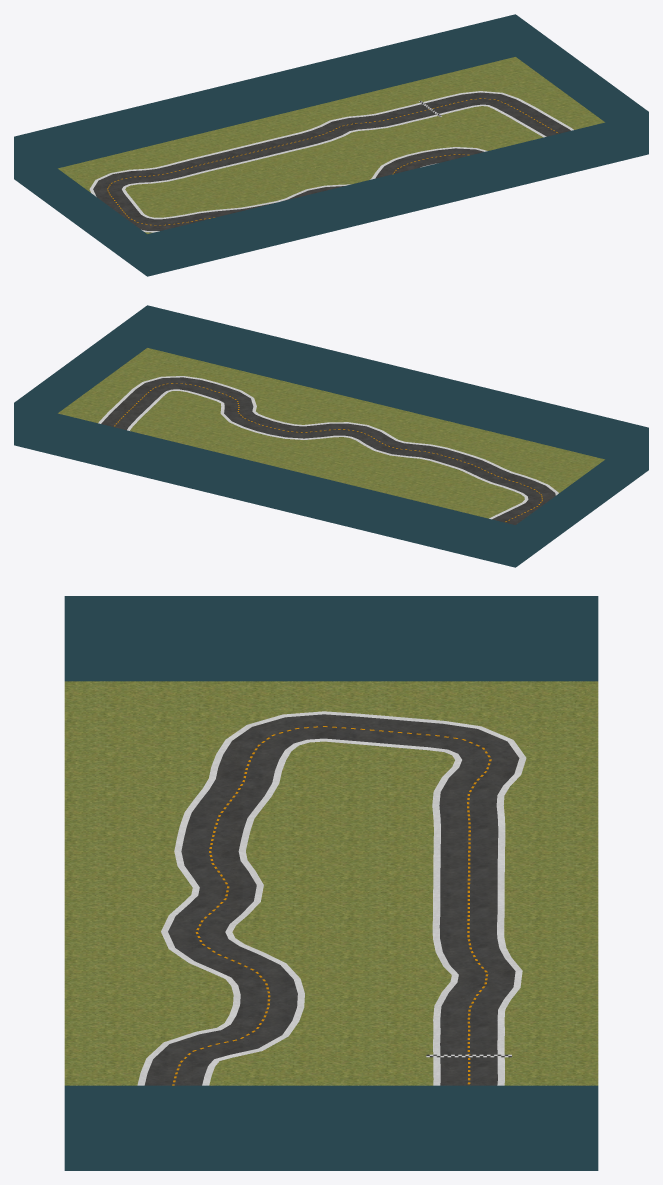
The model's file is 2024_reinvent_champ_ccw.dae.
The picture shows the model from 3 angles, top to bottom: view 1: azimuth 30°, elevation 25°; view 2: azimuth 150°, elevation 25°; view 3: azimuth 270°, elevation 25°; orthographic projection. The views are drawn at different scales.
Parts seen in each view (by area): view 1: wall, field, road, ol, il, cl; view 2: wall, field, road, il, ol, cl; view 3: field, wall, road, il, ol, cl.
Boxes of the visible parts, bbox=[...] form: wall: bbox=[14, 14, 648, 276]; field: bbox=[58, 57, 604, 233]; road: bbox=[93, 92, 570, 232]; ol: bbox=[122, 104, 546, 219]; il: bbox=[89, 91, 573, 232]; cl: bbox=[107, 98, 557, 225]; wall: bbox=[14, 305, 648, 567]; field: bbox=[58, 348, 604, 518]; road: bbox=[101, 377, 555, 524]; il: bbox=[98, 376, 558, 495]; ol: bbox=[127, 389, 528, 519]; cl: bbox=[114, 383, 542, 521]; field: bbox=[64, 681, 598, 1085]; wall: bbox=[64, 596, 598, 1170]; road: bbox=[144, 714, 519, 1085]; il: bbox=[137, 711, 526, 1085]; ol: bbox=[202, 738, 461, 1085]; cl: bbox=[172, 726, 491, 1085].
Size of the model in its own units: 12.34 by 5.68 by 1.
Materials: 7 (7 with a texture image).
